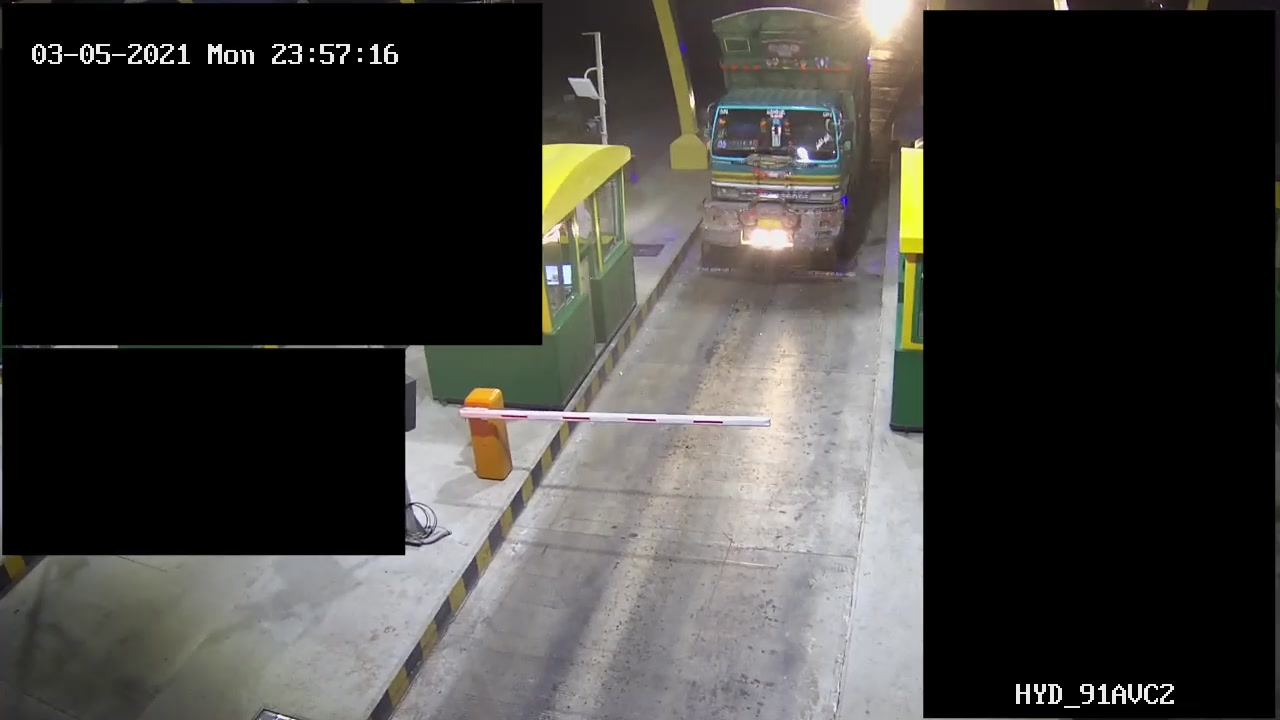F5: (693, 1, 878, 267)
